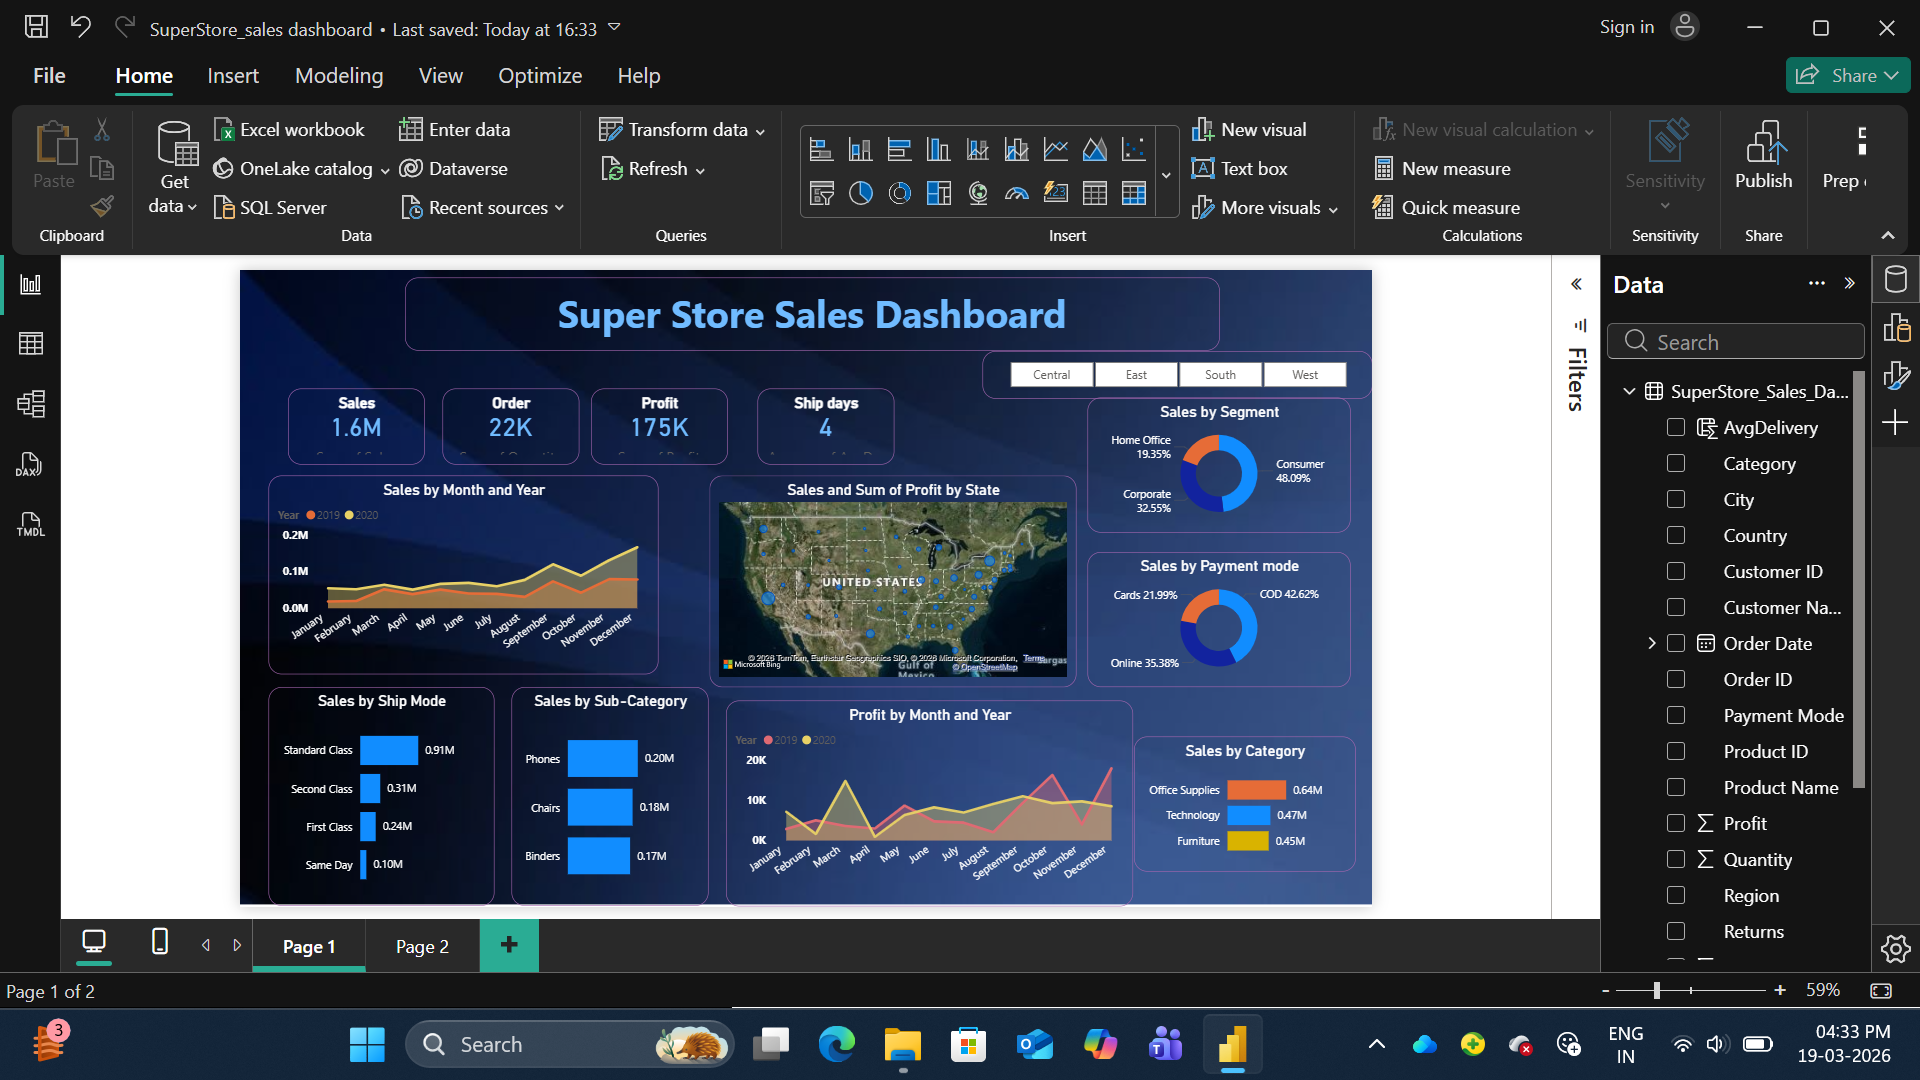

The dashboard page shown, as its layout file describes it:
{"tool":"powerbi","page":{"name":"Page 1","canvas":[1280,720],"ordinal":0},"visuals":[{"type":"clusteredBarChart","title":"Sales by Category","fields":{"Category":["SuperStore_Sales_Dataset.Category"],"Y":["Sum(SuperStore_Sales_Dataset.Sales)"]},"box":[1010.1,527,250.5,152.9],"z":0},{"type":"clusteredBarChart","title":"Sales by Ship Mode","fields":{"Category":["SuperStore_Sales_Dataset.Ship Mode"],"Y":["Sum(SuperStore_Sales_Dataset.Sales)"]},"box":[32.5,471.7,255.4,247.2],"z":1000},{"type":"clusteredBarChart","title":" Sales by Sub-Category","fields":{"Category":["SuperStore_Sales_Dataset.Sub-Category"],"Y":["Sum(SuperStore_Sales_Dataset.Sales)"]},"box":[307.4,471.7,222.8,247.2],"z":2000},{"type":"areaChart","title":" Sales by Month and Year","fields":{"Category":["SuperStore_Sales_Dataset.Order Date.Variation.Date Hierarchy.Month"],"Series":["SuperStore_Sales_Dataset.Order Date.Variation.Date Hierarchy.Year"],"Y":["Sum(SuperStore_Sales_Dataset.Sales)"]},"box":[32.5,232.6,440.8,224.5],"z":3000},{"type":"areaChart","title":"Profit by Month and Year","fields":{"Category":["SuperStore_Sales_Dataset.Order Date.Variation.Date Hierarchy.Month"],"Series":["SuperStore_Sales_Dataset.Order Date.Variation.Date Hierarchy.Year"],"Y":["Sum(SuperStore_Sales_Dataset.Profit)"]},"box":[549.8,486.3,460.3,232.6],"z":4000},{"type":"map","title":"Sales and Sum of Profit by State","fields":{"Category":["SuperStore_Sales_Dataset.State"],"Size":["Sum(SuperStore_Sales_Dataset.Sales)"]},"box":[530.3,232.6,414.8,239.1],"z":4001},{"type":"donutChart","title":" Sales by Segment","fields":{"Category":["SuperStore_Sales_Dataset.Segment"],"Y":["Sum(SuperStore_Sales_Dataset.Sales)"]},"box":[958,144.8,297.7,152.9],"z":4002},{"type":"donutChart","title":" Sales by Payment mode","fields":{"Category":["SuperStore_Sales_Dataset.Payment Mode"],"Y":["Sum(SuperStore_Sales_Dataset.Sales)"]},"box":[958,318.8,297.7,152.9],"z":4003},{"type":"slicer","fields":{"Values":["SuperStore_Sales_Dataset.Region"]},"box":[839.3,91.1,440.8,53.7],"z":4004},{"type":"textbox","box":[187.1,8.1,920.6,83],"z":4005},{"type":"card","title":"Sales","fields":{"Values":["Sum(SuperStore_Sales_Dataset.Sales)"]},"box":[53.7,133.4,154.5,86.2],"z":4006},{"type":"card","title":"Order","fields":{"Values":["Sum(SuperStore_Sales_Dataset.Quantity)"]},"box":[229.3,133.4,154.5,86.2],"z":4007},{"type":"card","title":"Profit","fields":{"Values":["Sum(SuperStore_Sales_Dataset.Profit)"]},"box":[396.9,133.4,154.5,86.2],"z":4008},{"type":"card","title":"Ship days","fields":{"Values":["Avg(SuperStore_Sales_Dataset.AvgDelivery)"]},"box":[583.9,133.4,154.5,86.2],"z":4009}]}

Visuals, with their boxes on the page's 1280x720 design canvas (x1, y1, x2, y2). These are canvas units, not pixel positions in the 1920x1080 screenshot, which may show the page scaled, cropped or inside an application window:
"Sales by Category" clusteredBarChart: box=[1010, 527, 1261, 680]
"Sales by Ship Mode" clusteredBarChart: box=[32, 472, 288, 719]
" Sales by Sub-Category" clusteredBarChart: box=[307, 472, 530, 719]
" Sales by Month and Year" areaChart: box=[32, 233, 473, 457]
"Profit by Month and Year" areaChart: box=[550, 486, 1010, 719]
"Sales and Sum of Profit by State" map: box=[530, 233, 945, 472]
" Sales by Segment" donutChart: box=[958, 145, 1256, 298]
" Sales by Payment mode" donutChart: box=[958, 319, 1256, 472]
slicer - SuperStore_Sales_Dataset.Region: box=[839, 91, 1280, 145]
textbox: box=[187, 8, 1108, 91]
"Sales" card: box=[54, 133, 208, 220]
"Order" card: box=[229, 133, 384, 220]
"Profit" card: box=[397, 133, 551, 220]
"Ship days" card: box=[584, 133, 738, 220]
